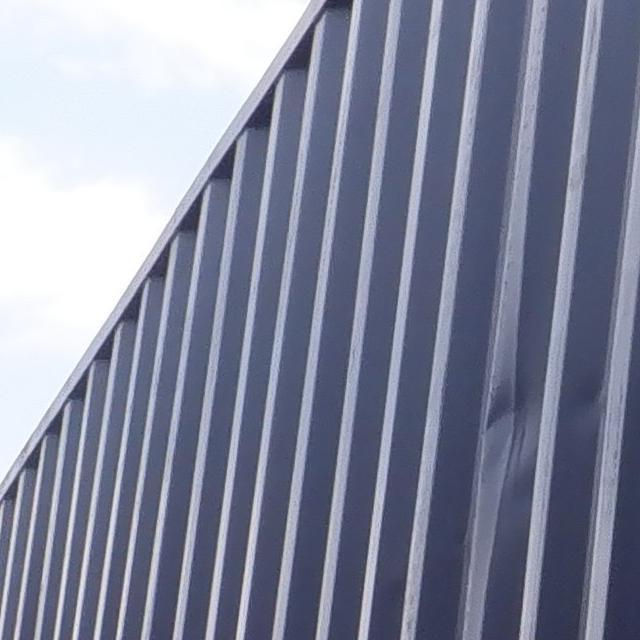dent: (471, 378, 550, 473), (573, 368, 618, 426)
